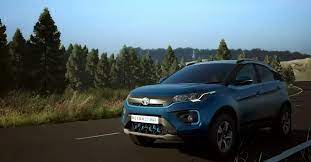Tata Nexon: (122, 59, 292, 152)
